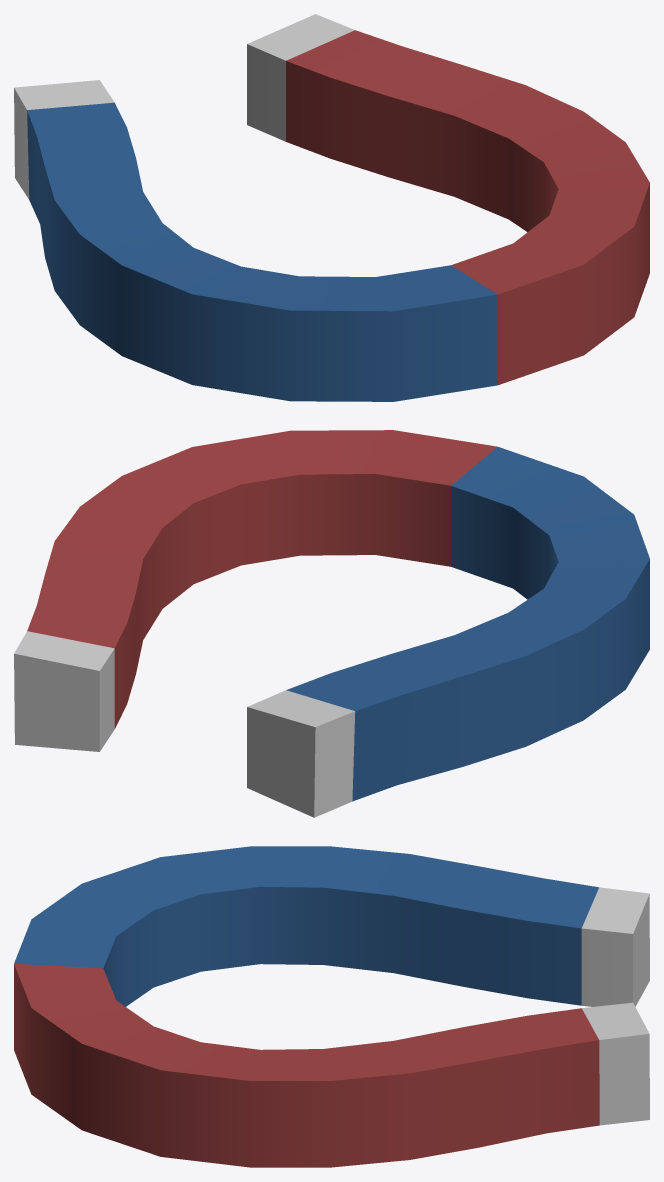
File: Magnet.fbx
3 renders of one model, top to bottom at view 1: azimuth 30°, elevation 25°; view 2: azimuth 150°, elevation 25°; view 3: azimuth 270°, elevation 25°, orthographic. The views are drawn at different scales.
Visible parts, largest first — view 1: Magnet; view 2: Magnet; view 3: Magnet.
Boxes of the visible parts, <box> form: Magnet: <box>14,14,649,401</box>; Magnet: <box>14,430,649,817</box>; Magnet: <box>14,846,649,1167</box>.
Bounding box in the file's own units: 1.56 × 0.2688 × 1.79.
